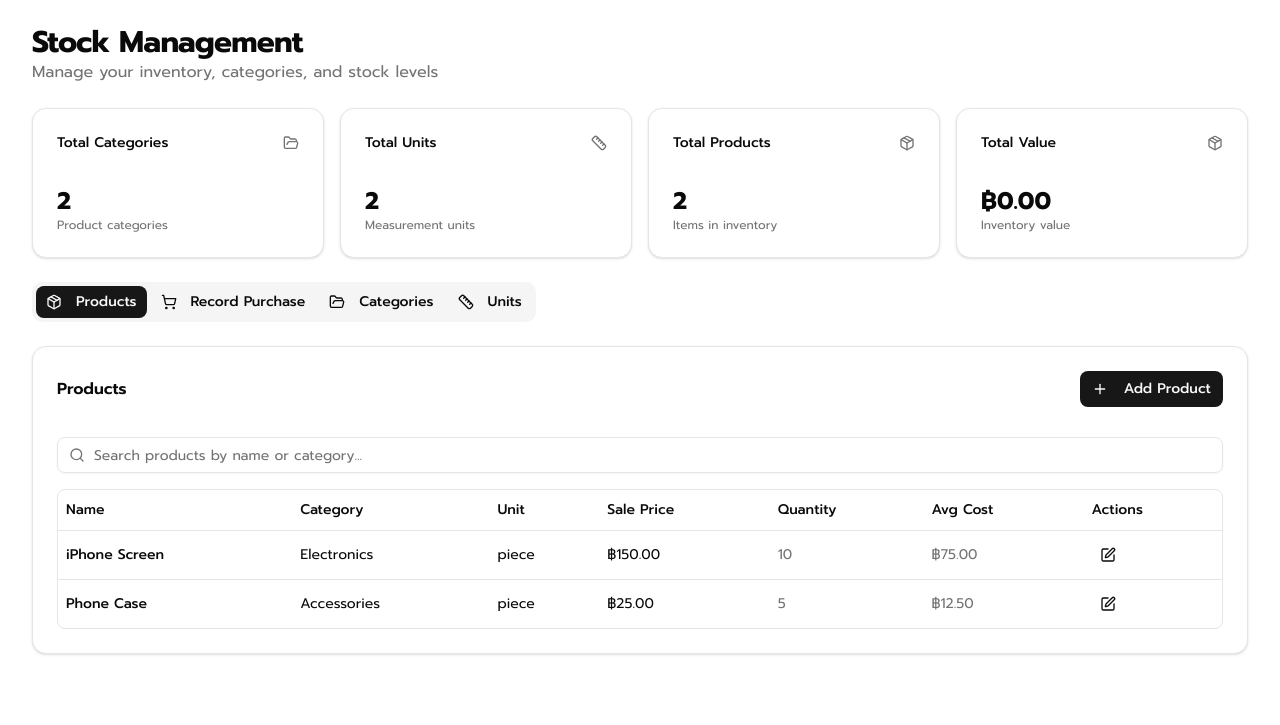
Test case: StockPage - Purchase Recording › enables submit only once product, quantity and cost are filled
Click the button "Record Purchase".
click(233, 302)  # box [150,286,315,318]
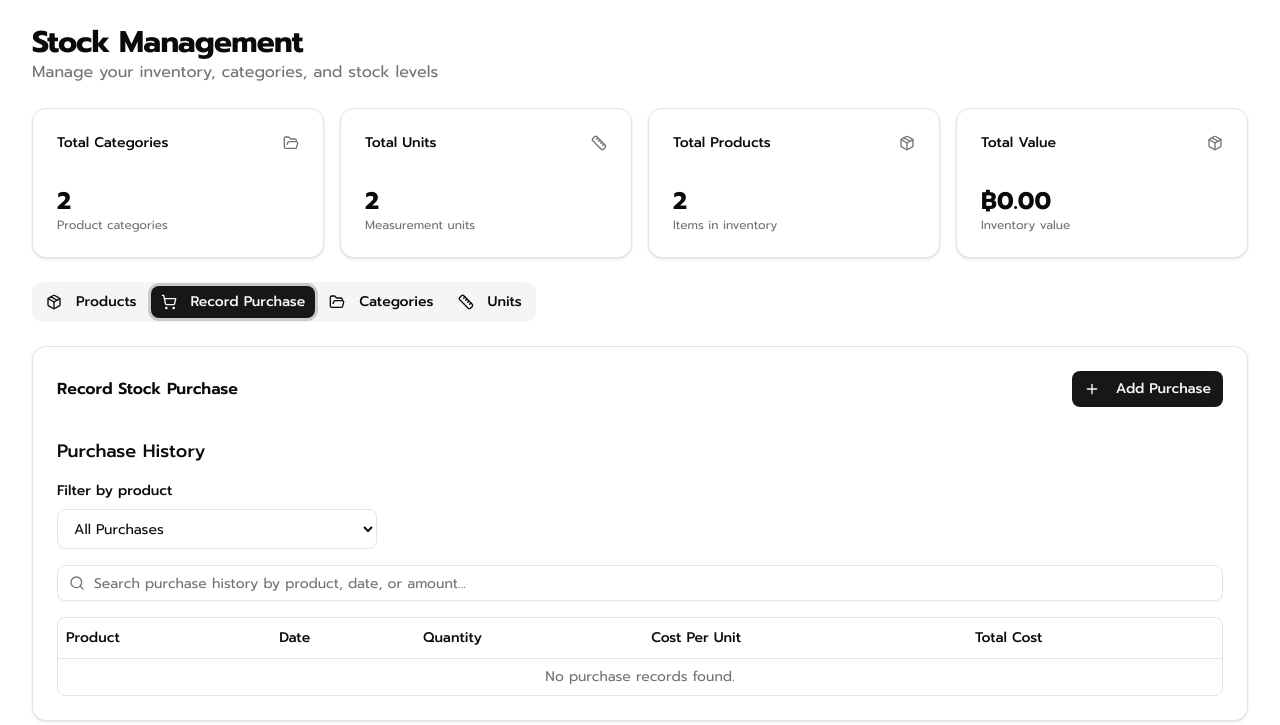
Click the button "Add Purchase".
click(1147, 389)  # box [1072,371,1223,407]
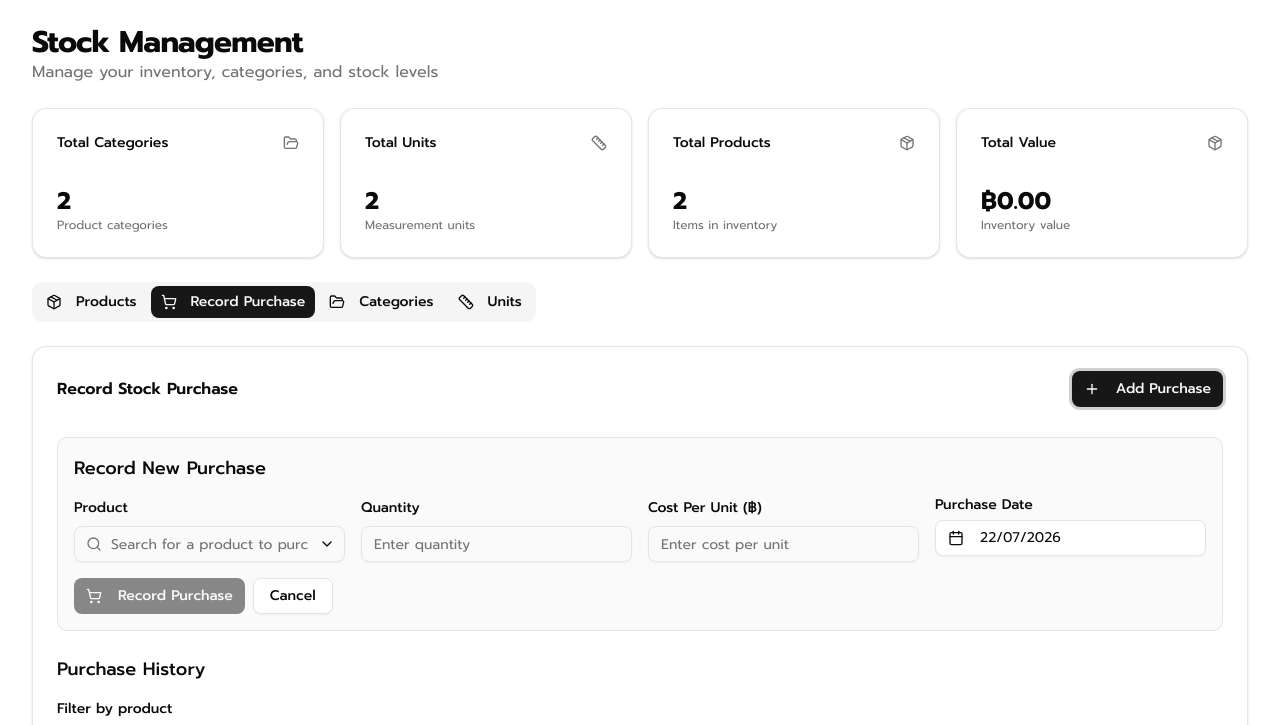
Expected: the button "Record Purchase" below "Record New Purchase" is disabled, [74,578,245,614]
Click the button named "Toggle dropdown".
click(327, 544)  # box [313,530,341,558]
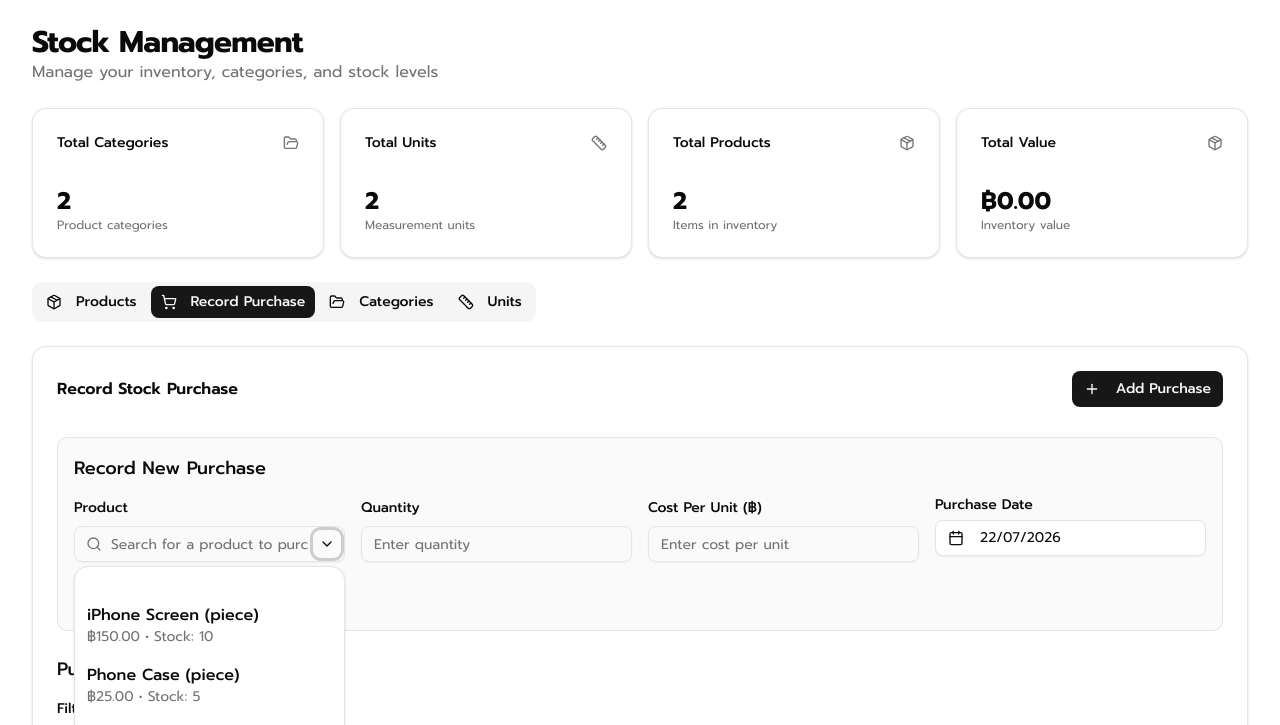
Click the text "iPhone Screen (piece)".
click(173, 615)  # box [87,603,259,627]
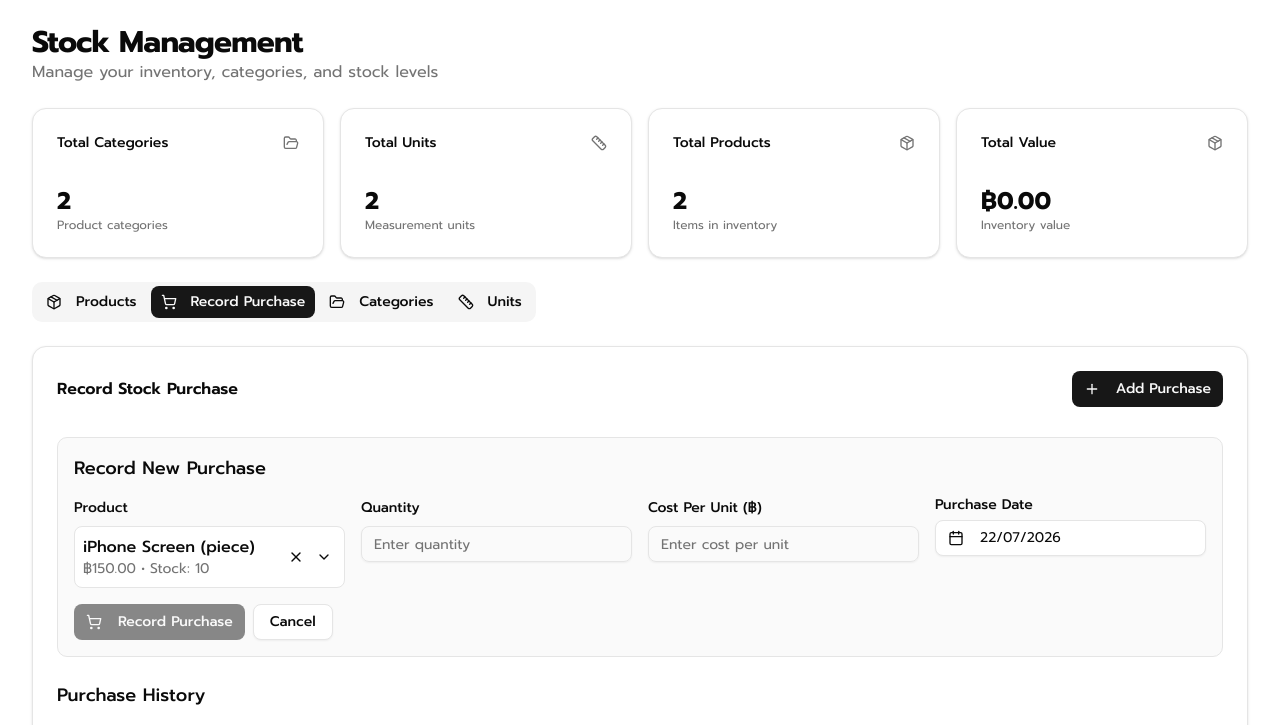
Expected: the button "Record Purchase" below "฿150.00" is disabled, [74,604,245,640]
Type "5" into the number field with placeholder "Enter quantity".
click(496, 544); type("5")  # box [361,526,632,562]
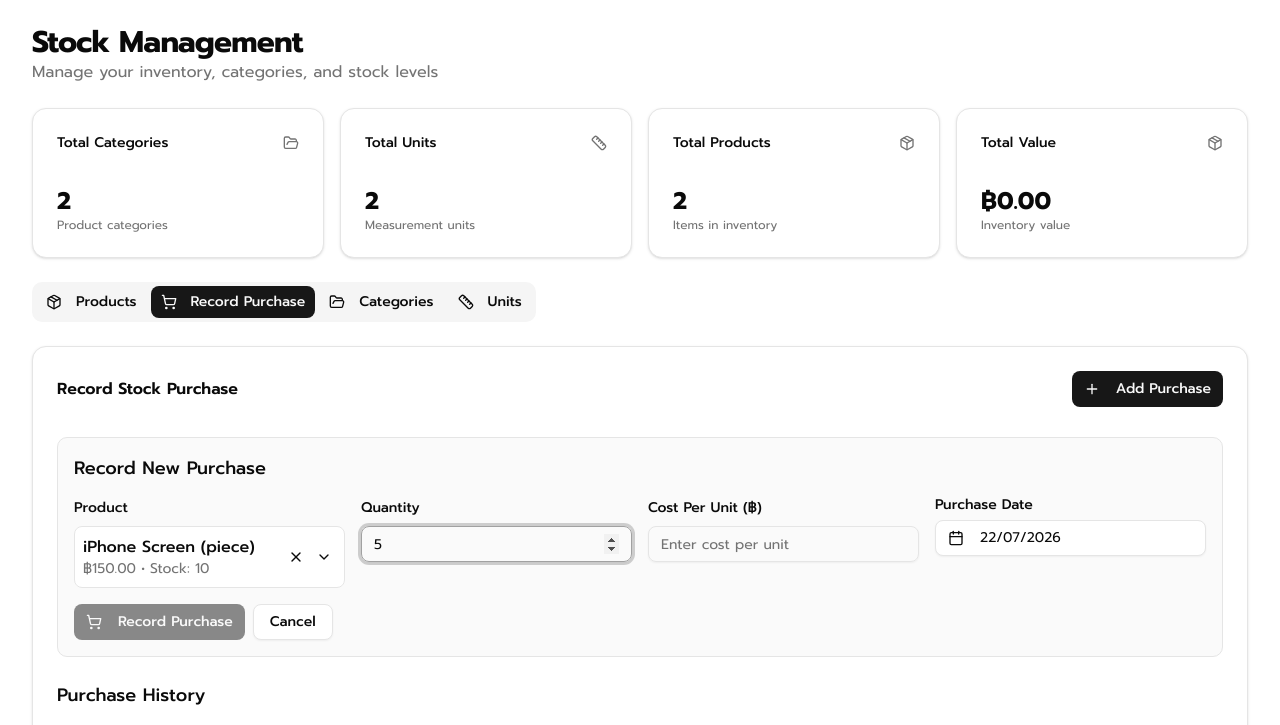
Expected: the button "Record Purchase" below "฿150.00" is disabled, [74,604,245,640]
Type "75.50" into the field named "Currency amount input".
click(784, 544); type("75.50")  # box [648,526,919,562]
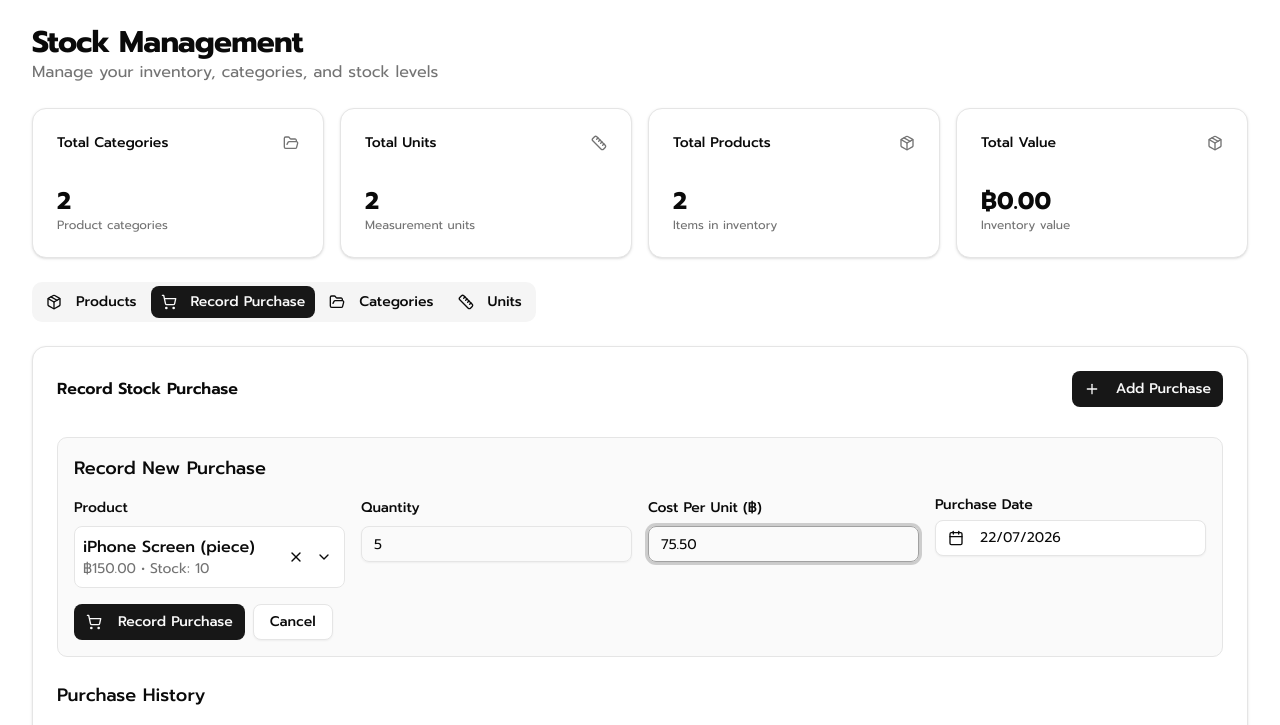
Expected: the button "Record Purchase" below "฿150.00" is enabled, [74,604,245,640]
